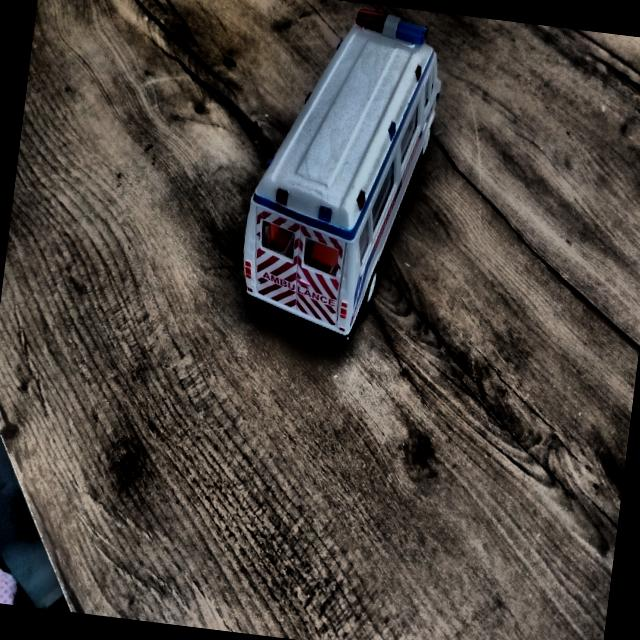Ambulance: (216, 0, 458, 371)
